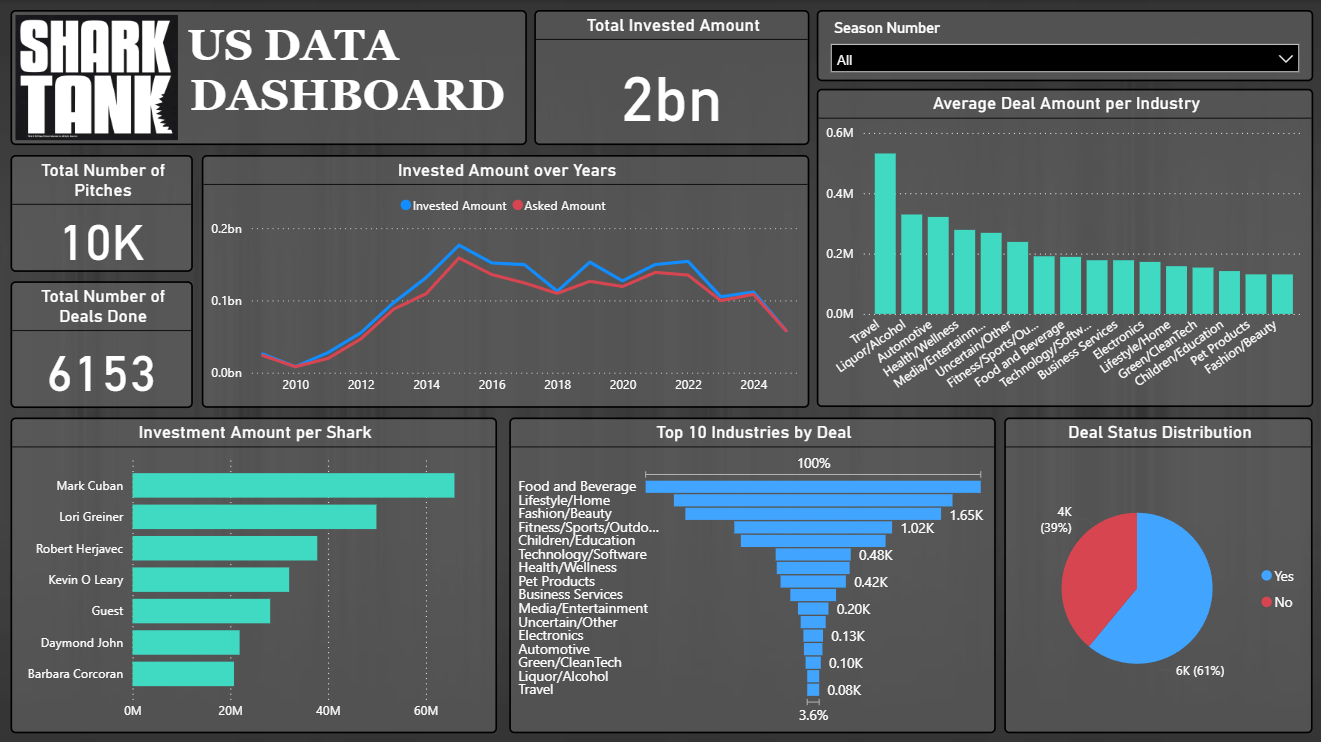

Layout of this report page (visuals, bound fields, positions):
{"tool":"powerbi","page":{"name":"Page 1","canvas":[1280,720],"ordinal":0},"visuals":[{"type":"pieChart","title":"Deal Status Distribution","fields":{"Category":["shark_tank_cleaned.Deal Status"],"Y":["shark_tank_cleaned.Row Count"]},"box":[971.5,403.4,297.8,304.6],"z":0},{"type":"textbox","box":[12.1,9.7,498.3,130.3],"z":1000},{"type":"image","box":[12.1,9.7,166.5,130.3],"z":2000},{"type":"barChart","title":"Investment Amount per Shark","fields":{"Category":["shark_tank_cleaned.Sharks"],"Y":["shark_tank_cleaned.Investment Amount"]},"box":[12.3,403.4,469.3,304.6],"z":3000},{"type":"lineChart","title":"Invested Amount over Years","fields":{"Y":["shark_tank_cleaned.Total Deal Amount","shark_tank_cleaned.Total Ask (Deals Only)"],"Category":["shark_tank_cleaned.Original Air Date.Variation.Date Hierarchy.Year"]},"box":[196.6,149.6,586.3,243.7],"z":4000},{"type":"columnChart","title":"Average Deal Amount per Industry","fields":{"Category":["shark_tank_cleaned.Industry"],"Y":["shark_tank_cleaned.Total Deal Amount"]},"box":[790,86.2,479.2,306.9],"z":5000},{"type":"funnel","title":"Top 10 Industries by Deal","fields":{"Category":["shark_tank_cleaned.Industry"],"Y":["shark_tank_cleaned.Got Deal"]},"box":[494,403.4,469.3,304.6],"z":6000},{"type":"slicer","fields":{"Values":["shark_tank_cleaned.Season Number"]},"box":[790.2,9.7,479,68.8],"z":7000},{"type":"card","title":"Total Invested Amount","fields":{"Values":["shark_tank_cleaned.Total Deal Amount"]},"box":[517.6,9.7,265.4,130.3],"z":8000},{"type":"card","title":"Total Number of Deals Done","fields":{"Values":["shark_tank_cleaned.Total Deals"]},"box":[12.3,271.7,175.6,122.1],"z":9000},{"type":"card","title":"Total Number of Pitches","fields":{"Values":["shark_tank_cleaned.Row Count"]},"box":[12.3,149.6,175.6,112.5],"z":10000}]}

Visuals, with their boxes in screenshot pixels (x1, y1, x2, y2), scaled from the page's 1280x720 canvas onto the 1321x742 screenshot:
"Deal Status Distribution" pieChart: 1003/416/1310/730
textbox: 12/10/527/144
image: 12/10/184/144
"Investment Amount per Shark" barChart: 13/416/497/730
"Invested Amount over Years" lineChart: 203/154/808/405
"Average Deal Amount per Industry" columnChart: 815/89/1310/405
"Top 10 Industries by Deal" funnel: 510/416/994/730
slicer - shark_tank_cleaned.Season Number: 816/10/1310/81
"Total Invested Amount" card: 534/10/808/144
"Total Number of Deals Done" card: 13/280/194/406
"Total Number of Pitches" card: 13/154/194/270
